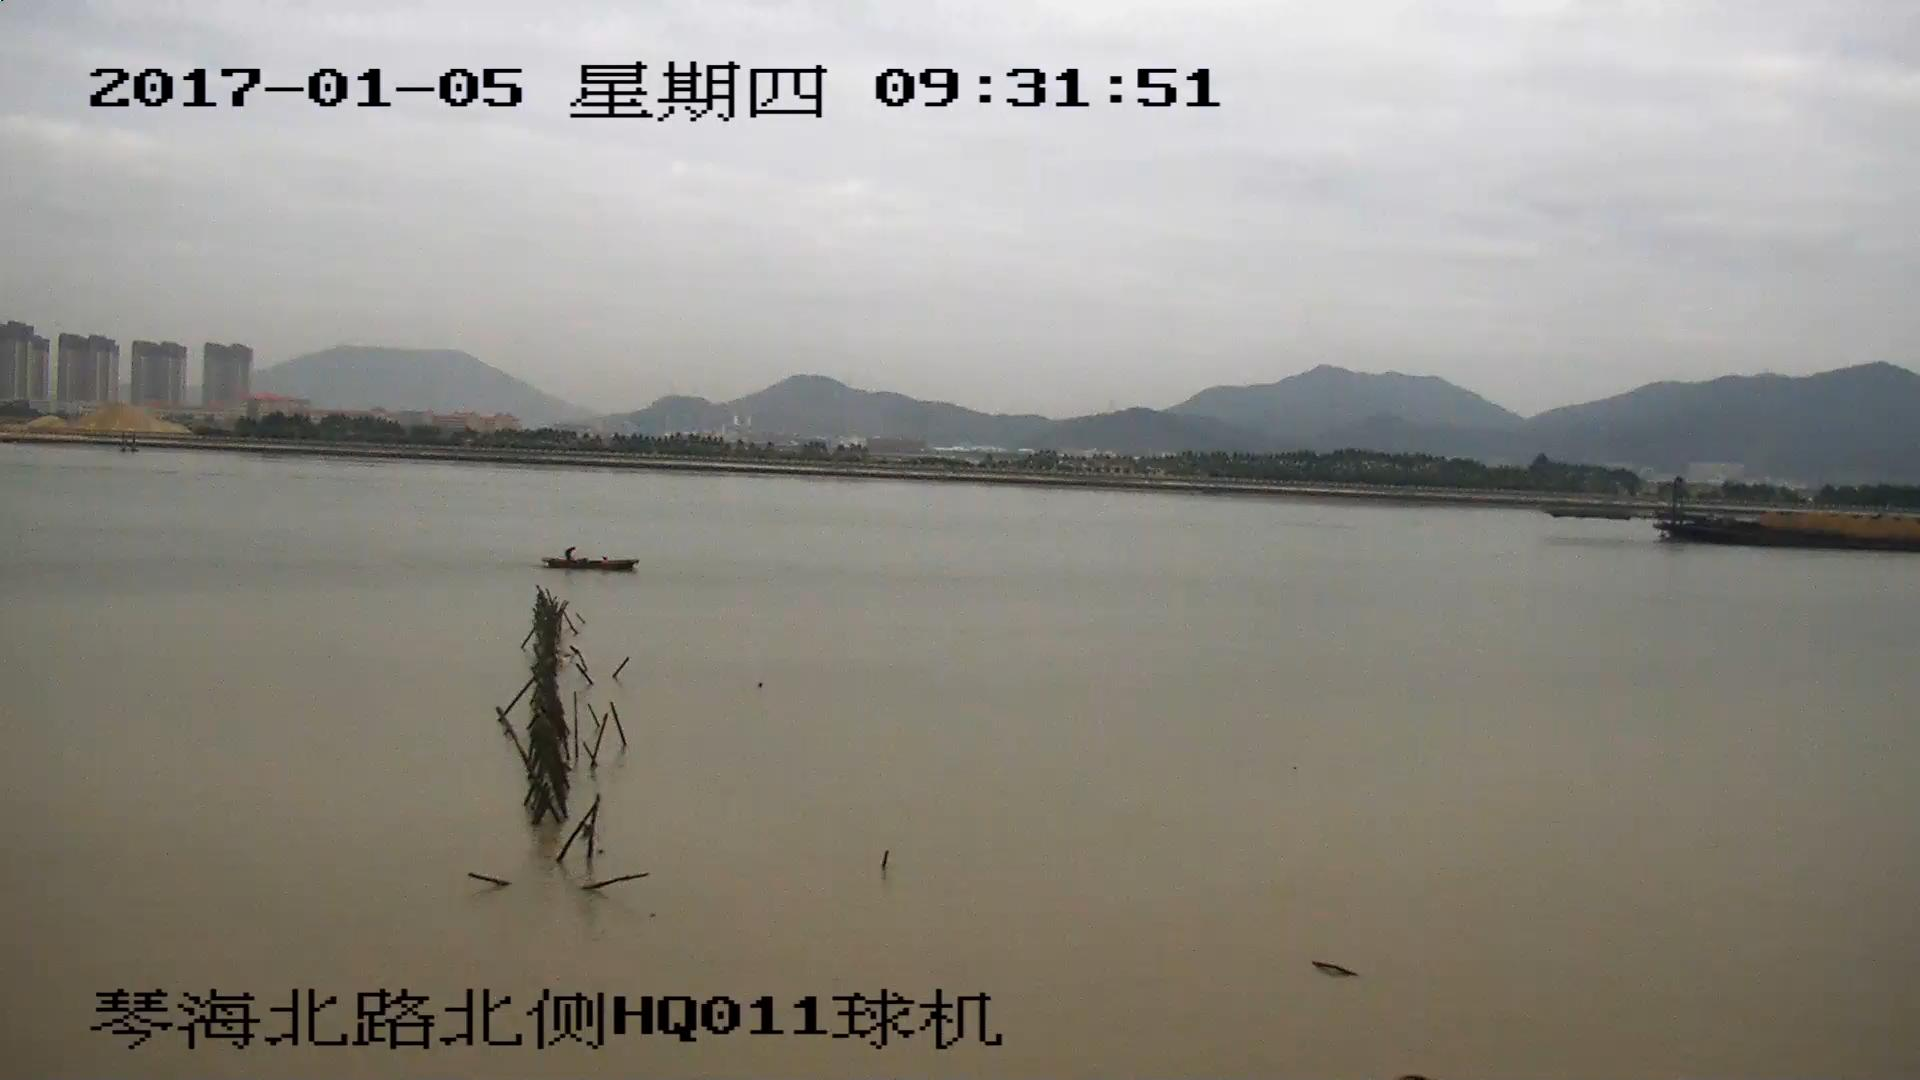fishing boat: (542, 546, 640, 570)
ore carrier: (1550, 480, 1920, 553)
